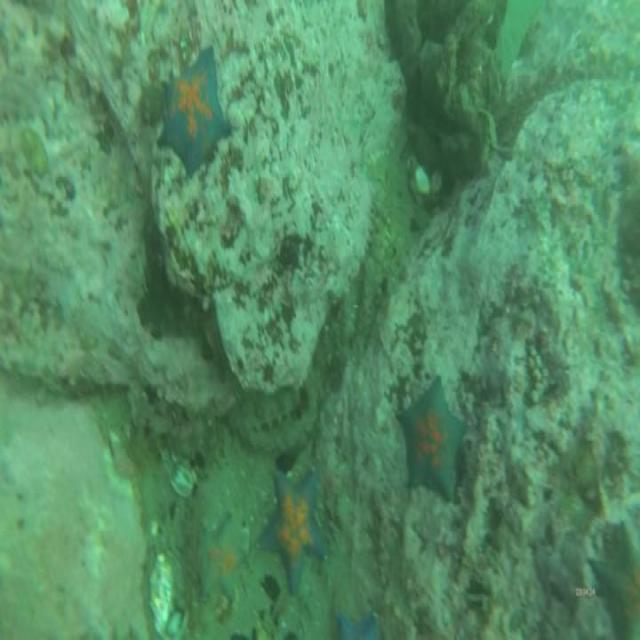holothurian: (232, 387, 297, 430), (232, 419, 316, 449)
starfish: (159, 50, 228, 174), (399, 384, 467, 503), (259, 474, 326, 593), (590, 520, 639, 640), (199, 518, 242, 604)
